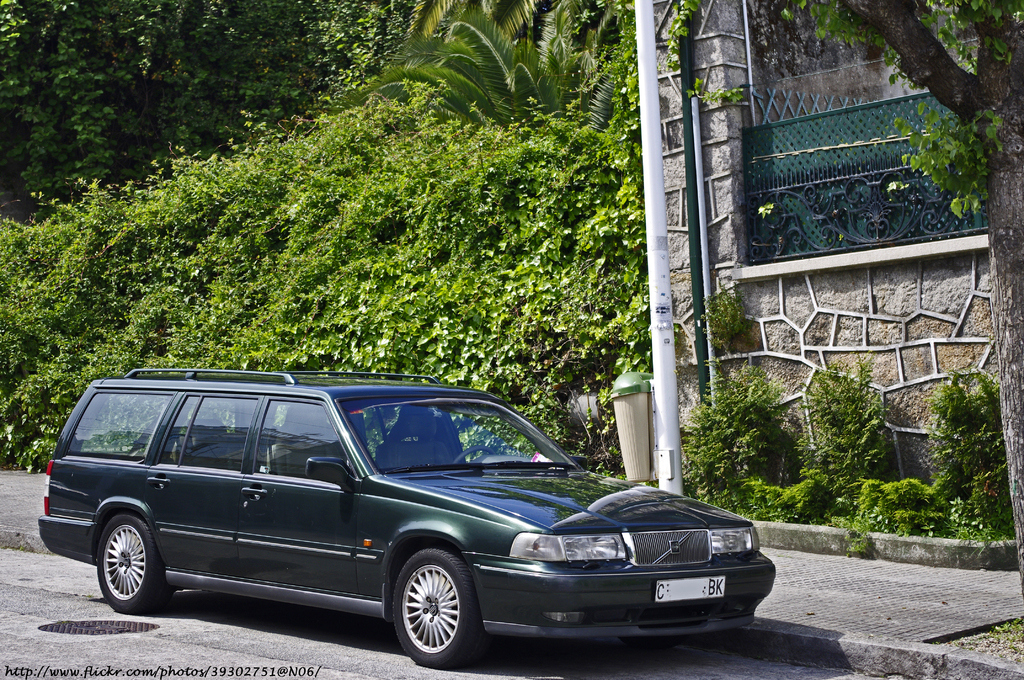Tree: (0, 0, 1024, 599)
